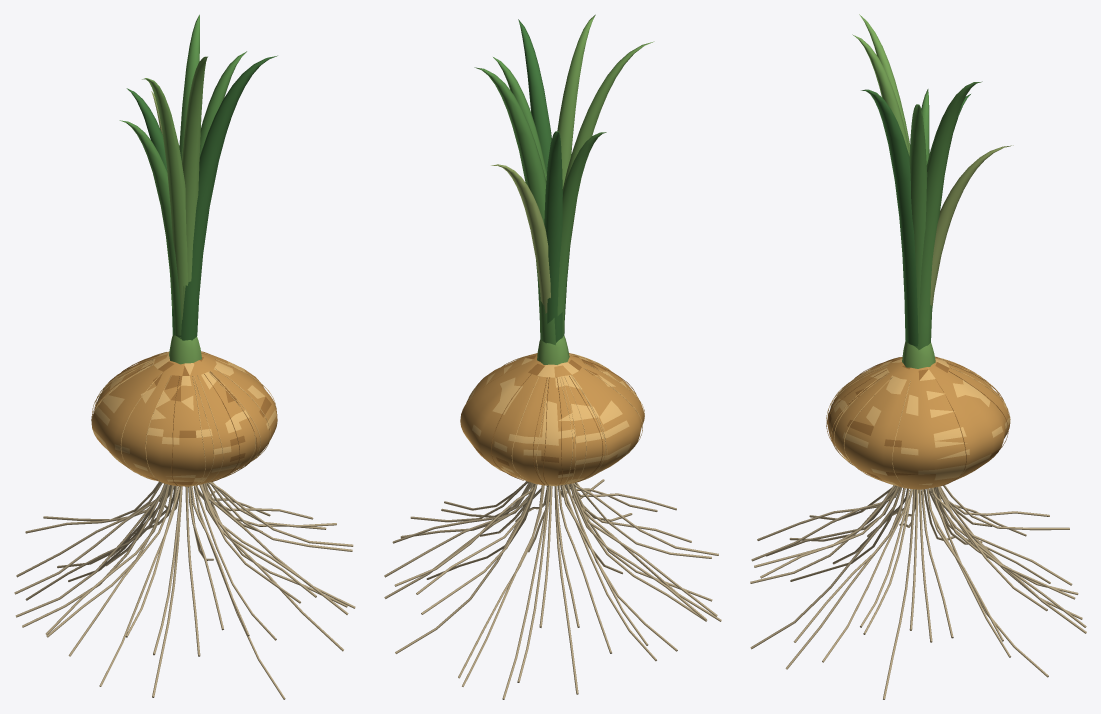
File: onion_growing.glb
The picture shows the model from 3 angles, left to right: view 1: azimuth 30°, elevation 25°; view 2: azimuth 150°, elevation 25°; view 3: azimuth 270°, elevation 25°; orthographic projection.
Visible parts, largest first — view 1: OwnerOnionGrowing; view 2: OwnerOnionGrowing; view 3: OwnerOnionGrowing.
Boxes of the visible parts, x1,y1,x2,y2 form: OwnerOnionGrowing: (14,14,355,699); OwnerOnionGrowing: (384,14,721,699); OwnerOnionGrowing: (750,14,1086,699).
Size of the model in its own units: 0.5978 by 1.18 by 0.5993.
